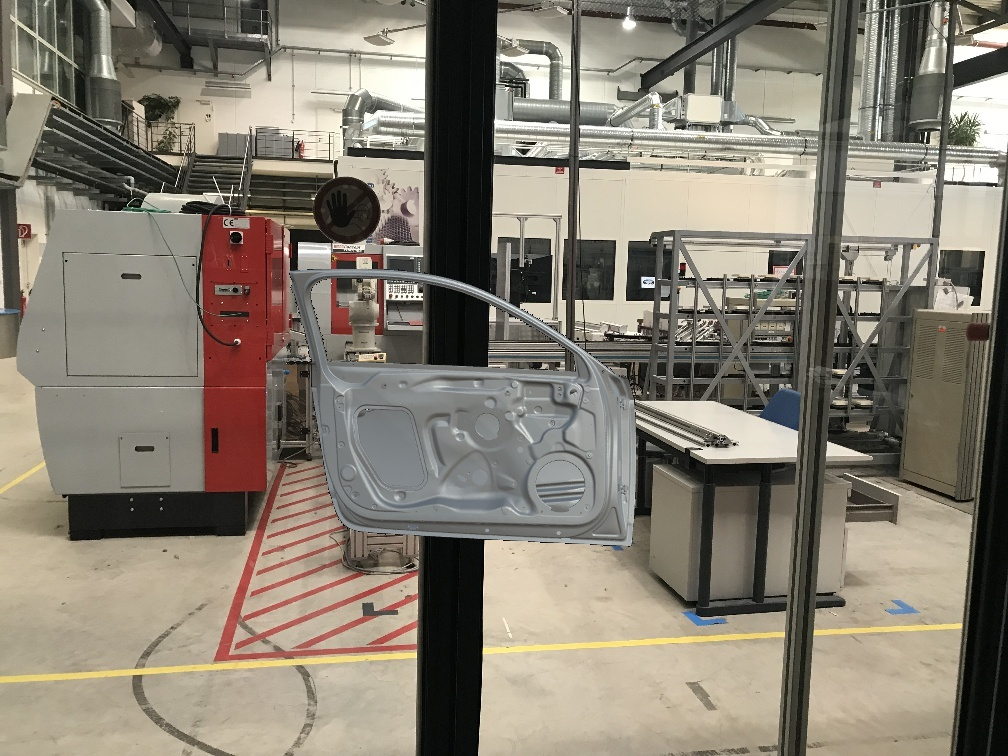car_door: (289, 269, 635, 546)
